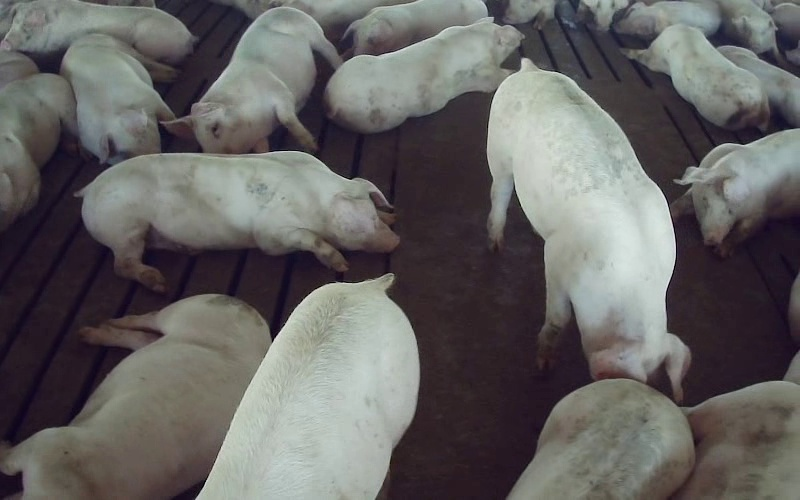pig: (487, 58, 690, 401), (0, 294, 269, 499), (198, 274, 418, 499), (79, 152, 398, 291), (163, 7, 340, 152), (324, 18, 523, 132), (507, 379, 694, 499), (670, 129, 799, 256), (622, 24, 769, 130), (60, 34, 176, 164), (673, 381, 799, 499), (0, 0, 196, 64), (0, 73, 76, 231), (717, 45, 799, 127), (613, 0, 720, 38), (716, 0, 779, 57)
